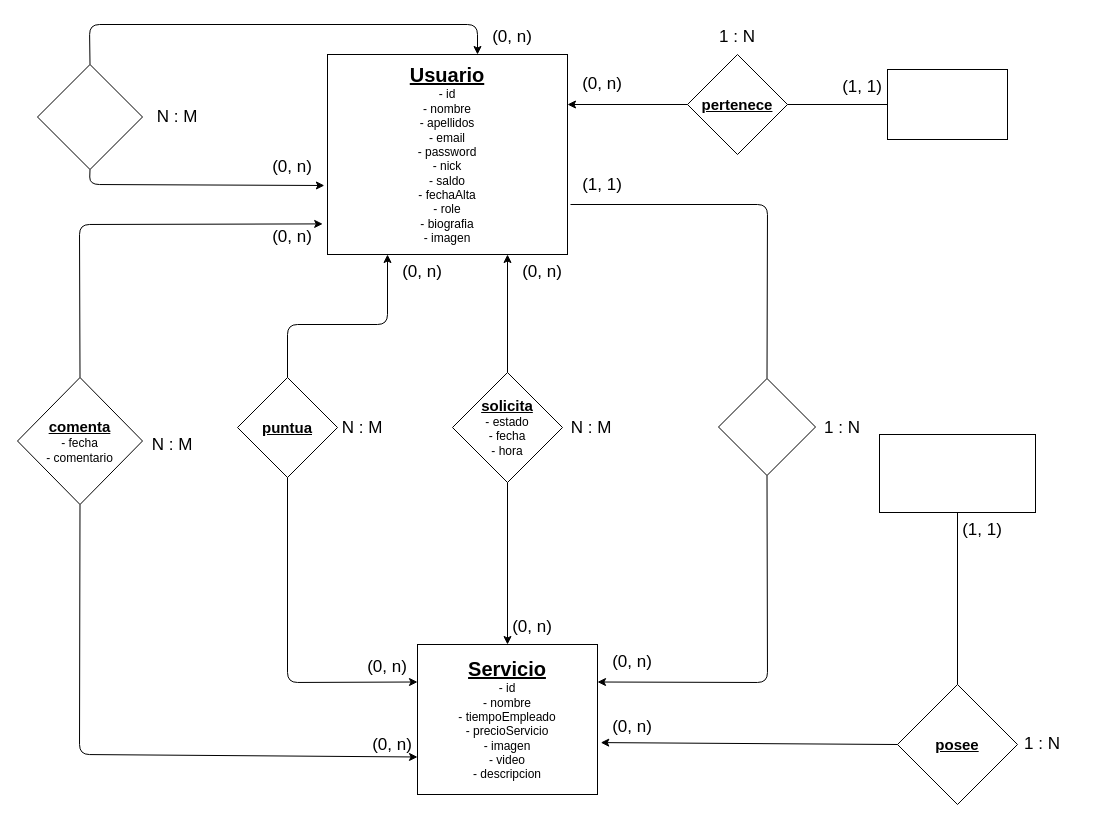
Image size: 1095x822. Some labels were removed from this diagram. The shapes that lost their labels are listed below. From the top down, each one's centre as x and y in pixels, then its label:
At point 89,117: "envia - fecha - mensaje".
At point 947,104: "Ciudad - id - nombre - codPostal".
At point 767,427: "ofrece".
At point 957,473: "Categoría - id - nombre - descripcion".
